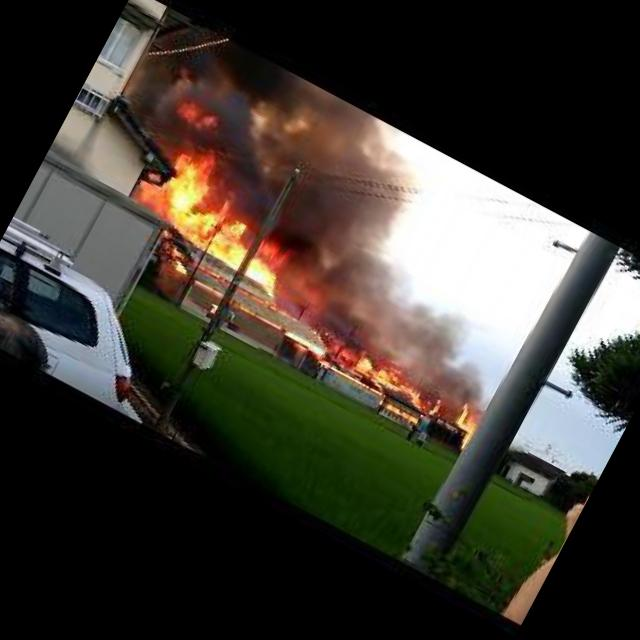fire: (110, 130, 325, 306), (320, 334, 446, 416), (318, 358, 382, 395), (444, 404, 483, 449), (375, 394, 420, 423), (260, 296, 291, 318), (308, 326, 327, 340)
smoke: (119, 12, 452, 266), (275, 220, 519, 418), (172, 97, 217, 132)
